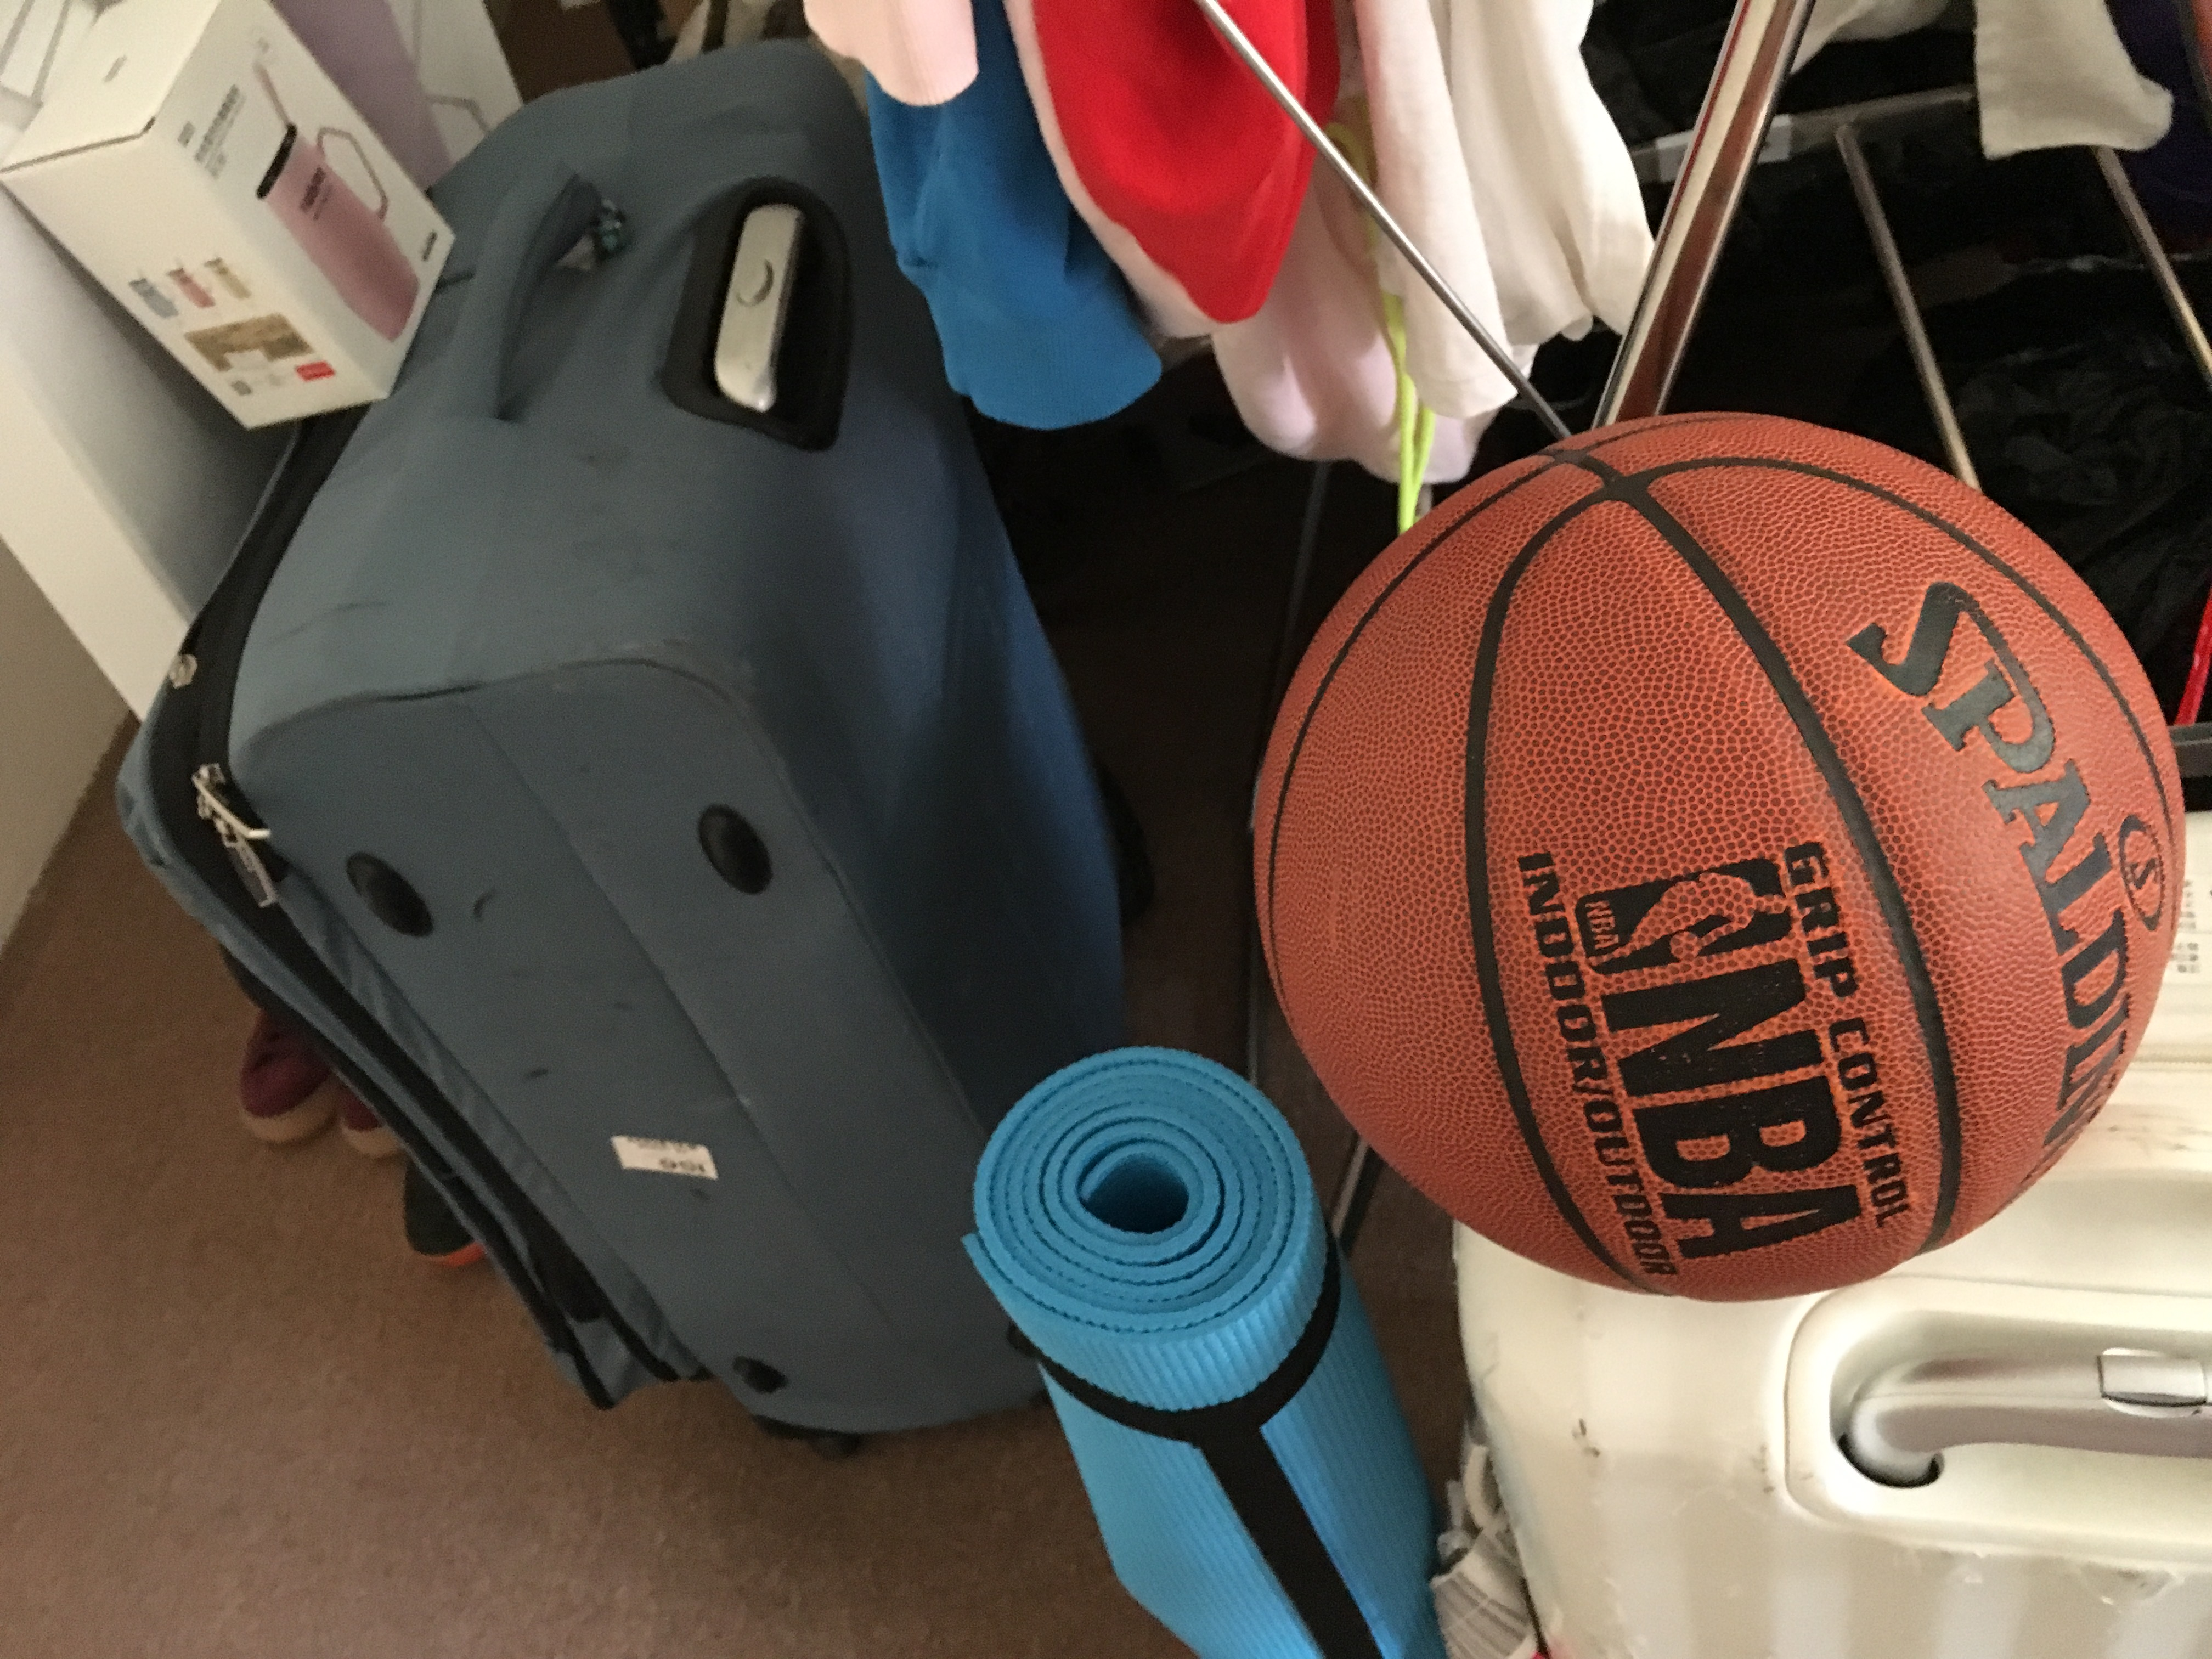Basketball: (1214, 392, 2212, 1328)
